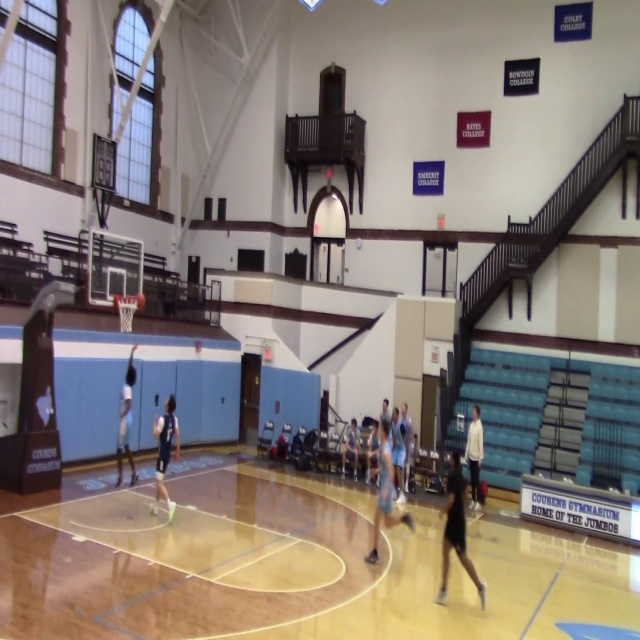Basketball: (136, 293, 145, 311)
